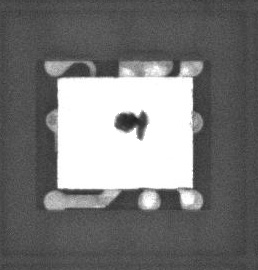DIE_INK: (109, 114, 143, 147)
